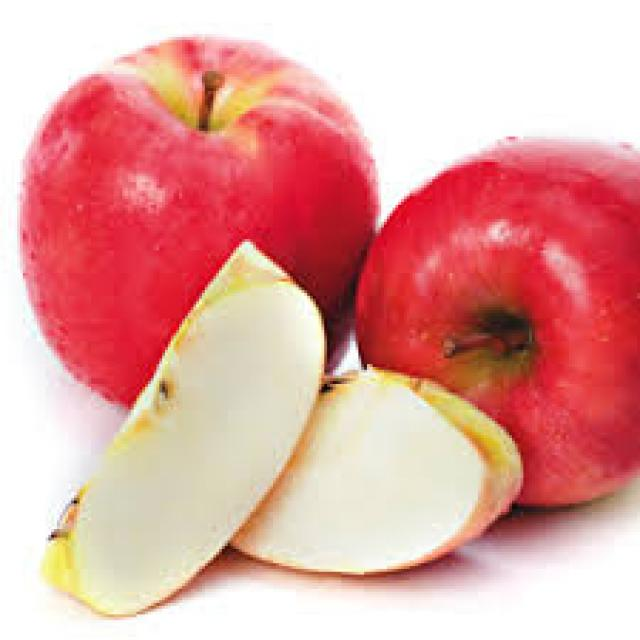Apple: (23, 39, 378, 366), (355, 131, 640, 500), (49, 248, 321, 608), (256, 374, 526, 572)
